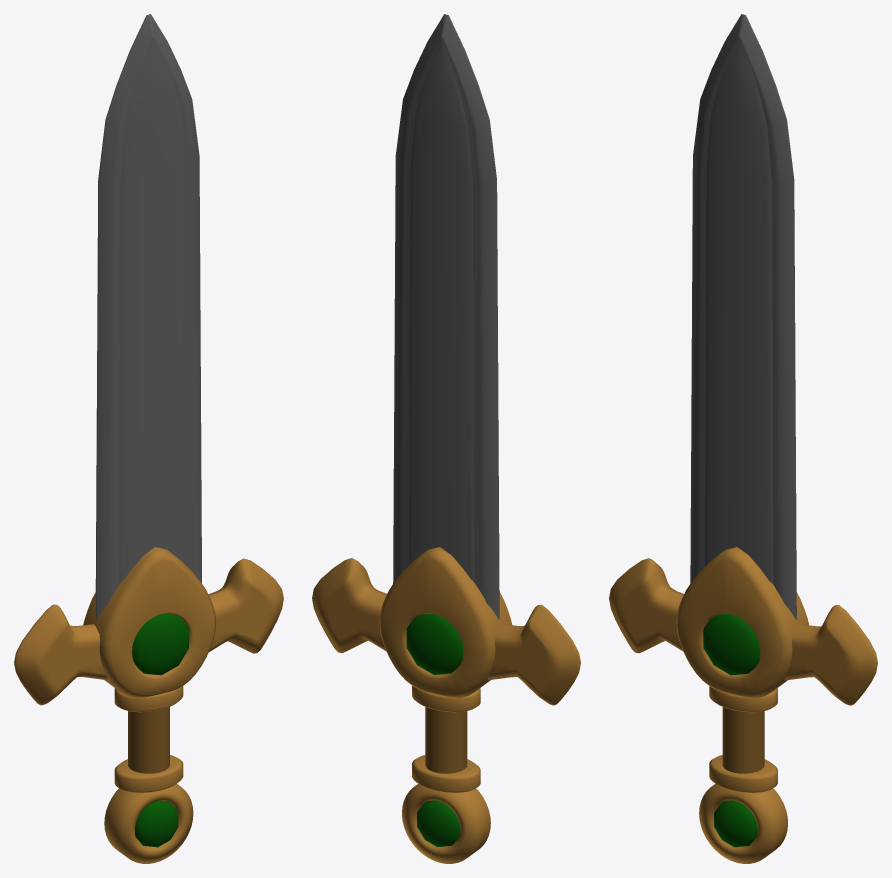
Rendered from Sword.fbx.
3 renders of one model, left to right at view 1: azimuth 30°, elevation 25°; view 2: azimuth 150°, elevation 25°; view 3: azimuth 330°, elevation 25°, orthographic.
Visible parts, largest first — view 1: Sword; view 2: Sword; view 3: Sword.
Boxes of the visible parts, x1,y1,x2,y2 form: Sword: (14,14,283,863); Sword: (312,14,580,863); Sword: (609,14,877,863).
Bounding box in the file's own units: 64.06 × 192 × 14.08.
